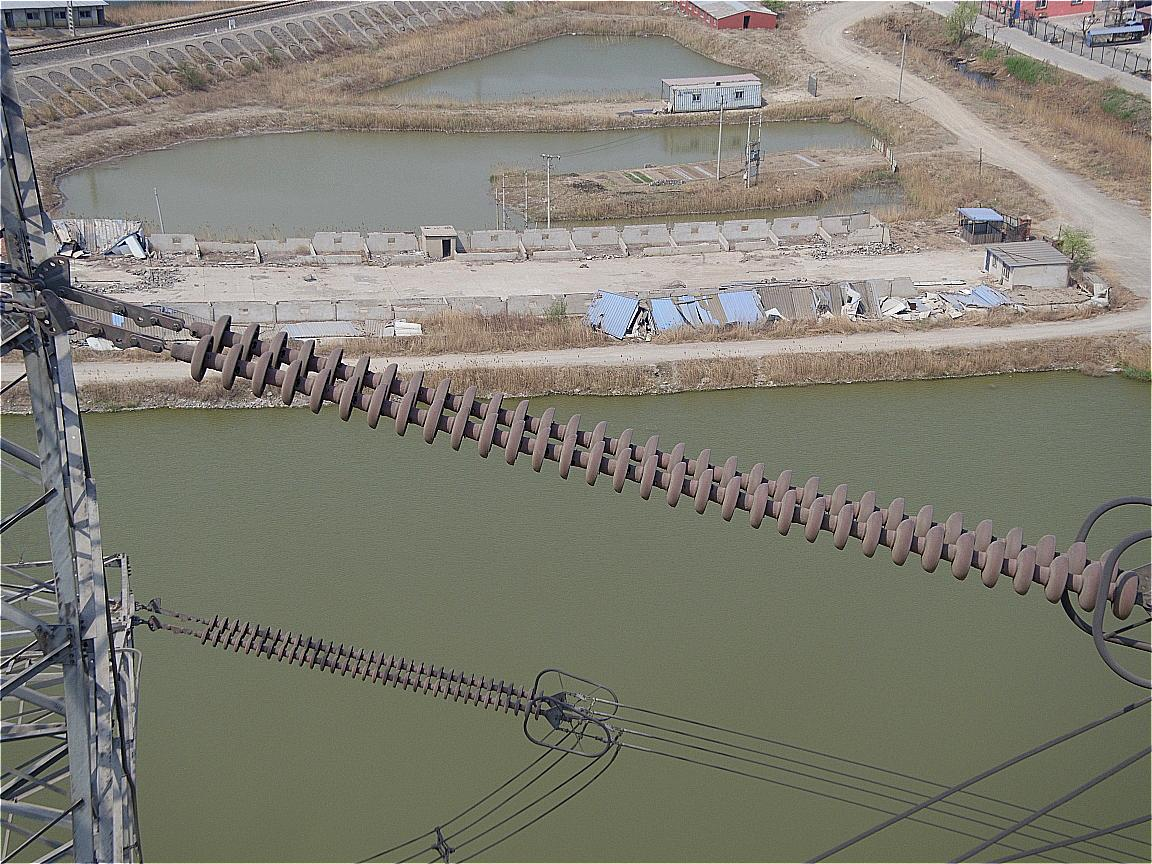insultor1: (168, 309, 1138, 628), (201, 606, 542, 729)
